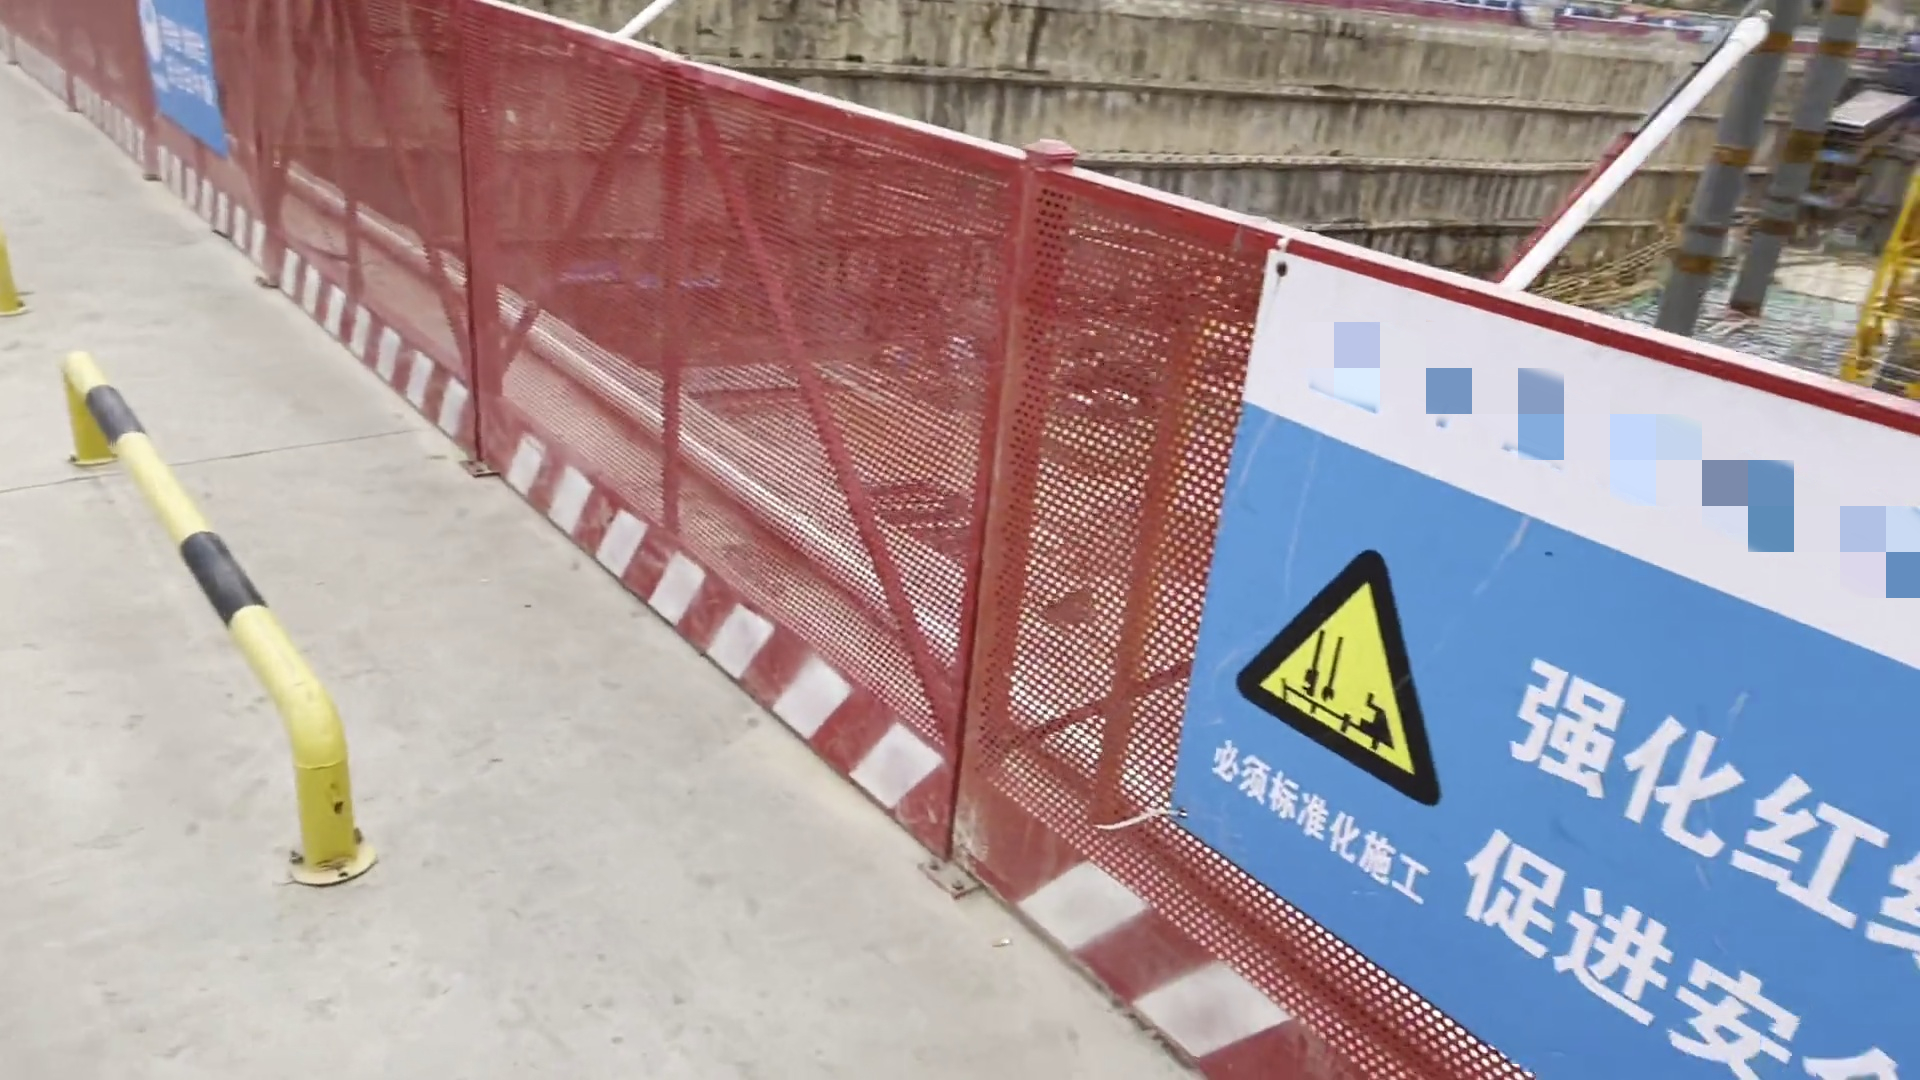fence: (1006, 157, 1625, 1080), (483, 7, 1007, 906), (280, 4, 472, 459), (1, 3, 276, 286)
slogan: (1176, 268, 1920, 1077), (138, 3, 229, 164)
